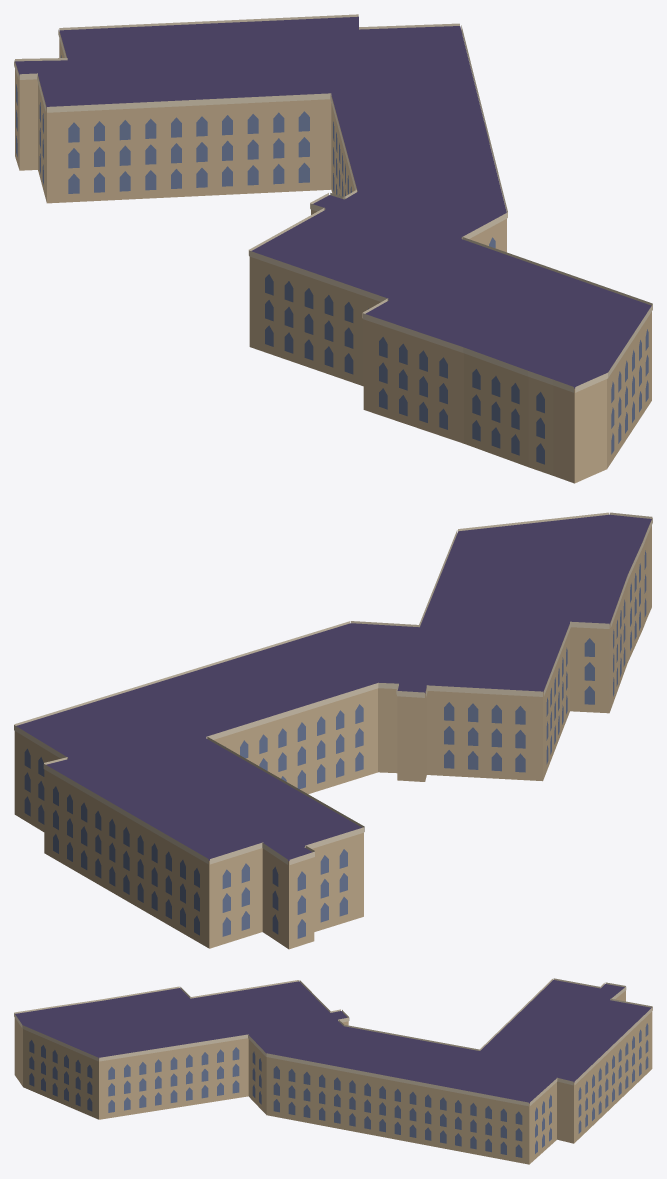
The model's file is core-chemistry-building-day.glb.
The picture shows the model from 3 angles, top to bottom: view 1: azimuth 30°, elevation 25°; view 2: azimuth 150°, elevation 25°; view 3: azimuth 270°, elevation 25°; orthographic projection. The views are drawn at different scales.
Visible parts, largest first — view 1: campus/core-chemistry-building-day-0; view 2: campus/core-chemistry-building-day-0; view 3: campus/core-chemistry-building-day-0.
Part boxes in pixels (x1,y1,x2,y2): campus/core-chemistry-building-day-0: (14, 14, 652, 483); campus/core-chemistry-building-day-0: (14, 512, 652, 949); campus/core-chemistry-building-day-0: (14, 978, 652, 1164).
Size of the model in its own units: 53.28 by 12.45 by 116.
